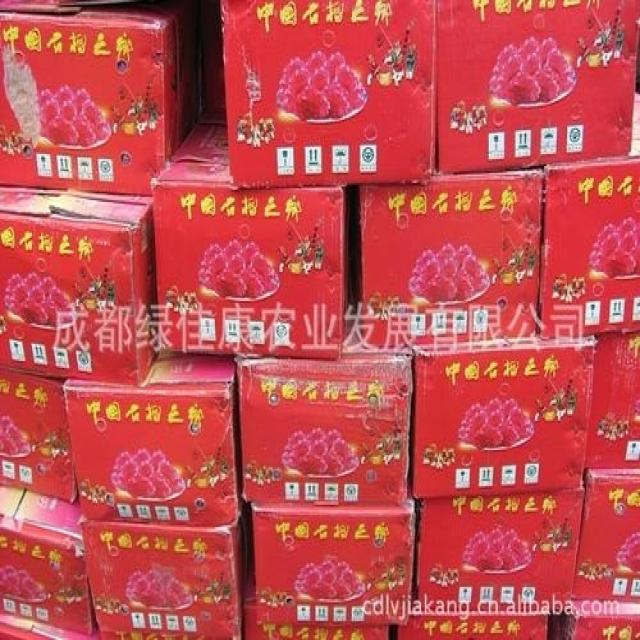box: (152, 110, 351, 363), (220, 0, 436, 190), (438, 0, 639, 175), (357, 169, 544, 347), (0, 12, 183, 193), (0, 187, 159, 387), (63, 358, 236, 525), (412, 337, 593, 496), (234, 347, 411, 507), (540, 91, 640, 339), (251, 495, 416, 623), (419, 488, 584, 611), (78, 508, 243, 631), (0, 488, 95, 635), (0, 370, 78, 505), (242, 575, 390, 640), (571, 465, 640, 602), (586, 330, 640, 469), (399, 609, 548, 640), (559, 601, 640, 640), (0, 616, 92, 640), (100, 625, 241, 640)
